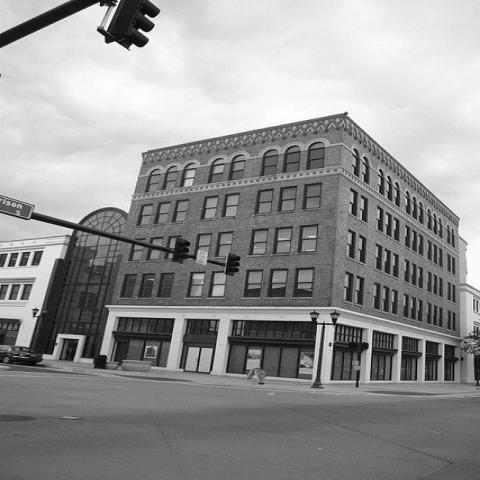car: (0, 345, 43, 365)
